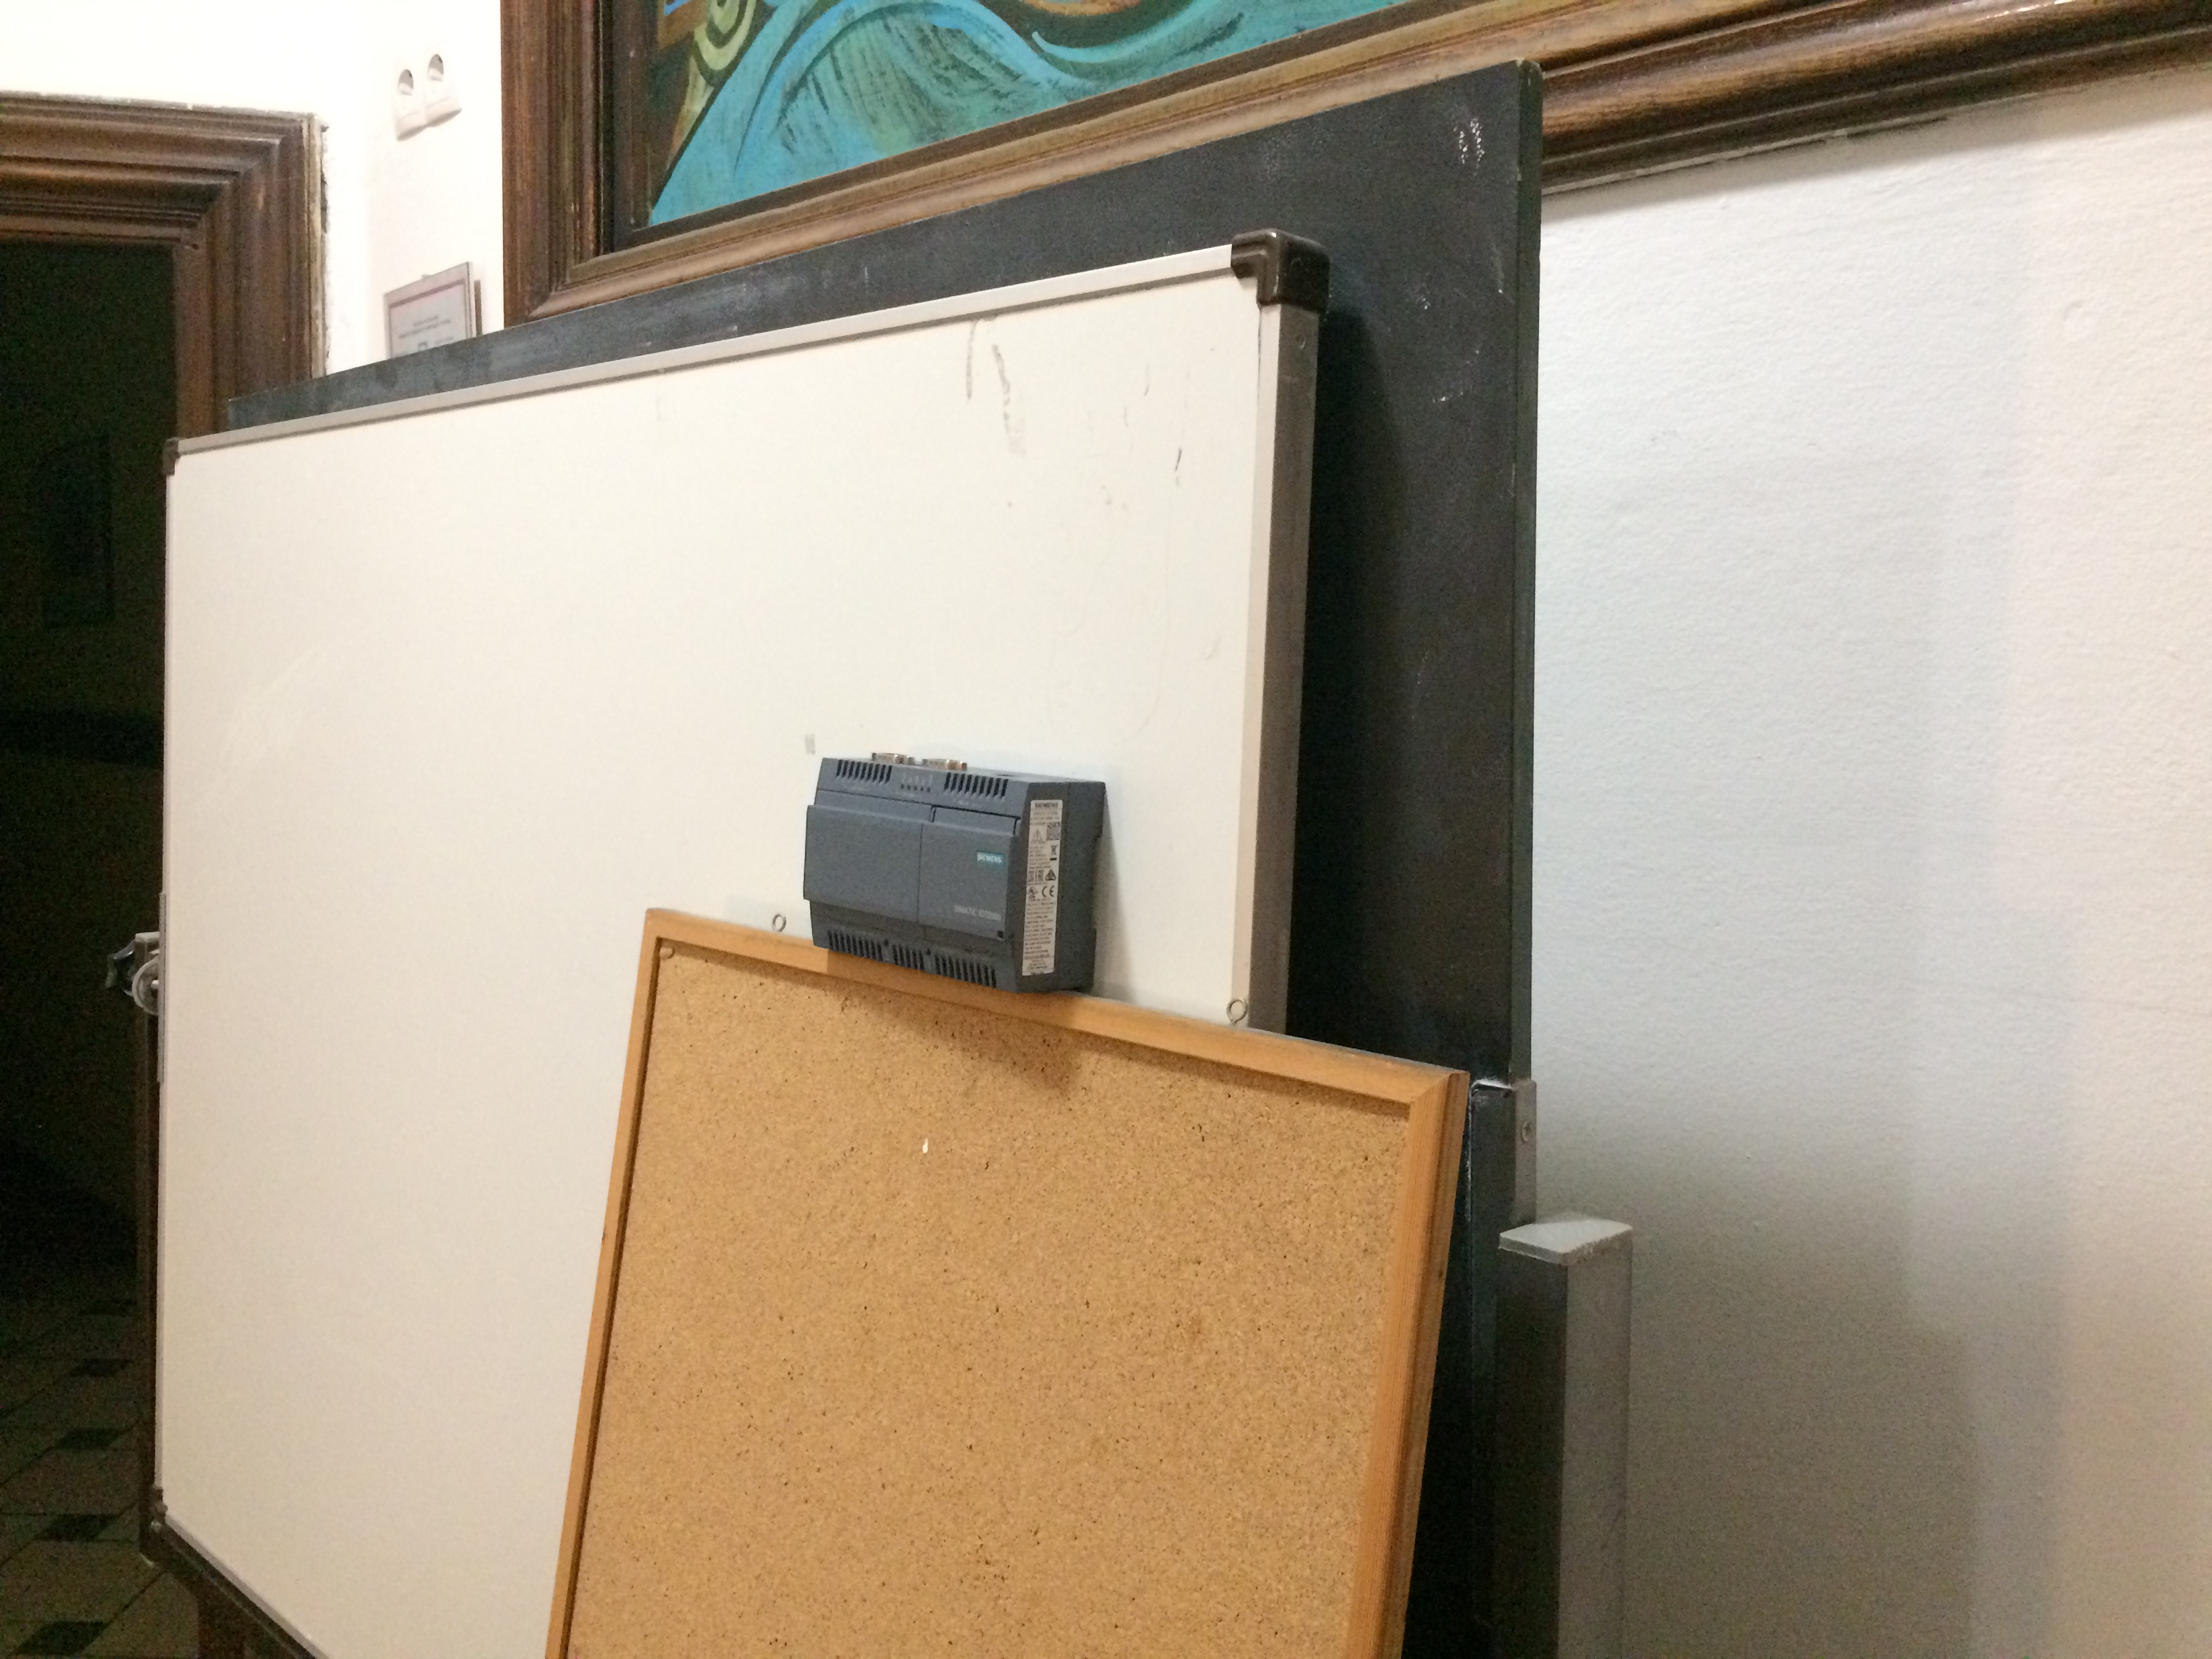iot2000: (801, 746, 1109, 1000)
